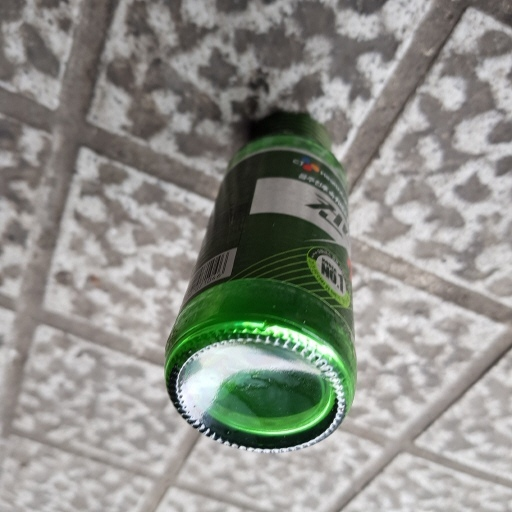Glass_4: (167, 114, 357, 455)
